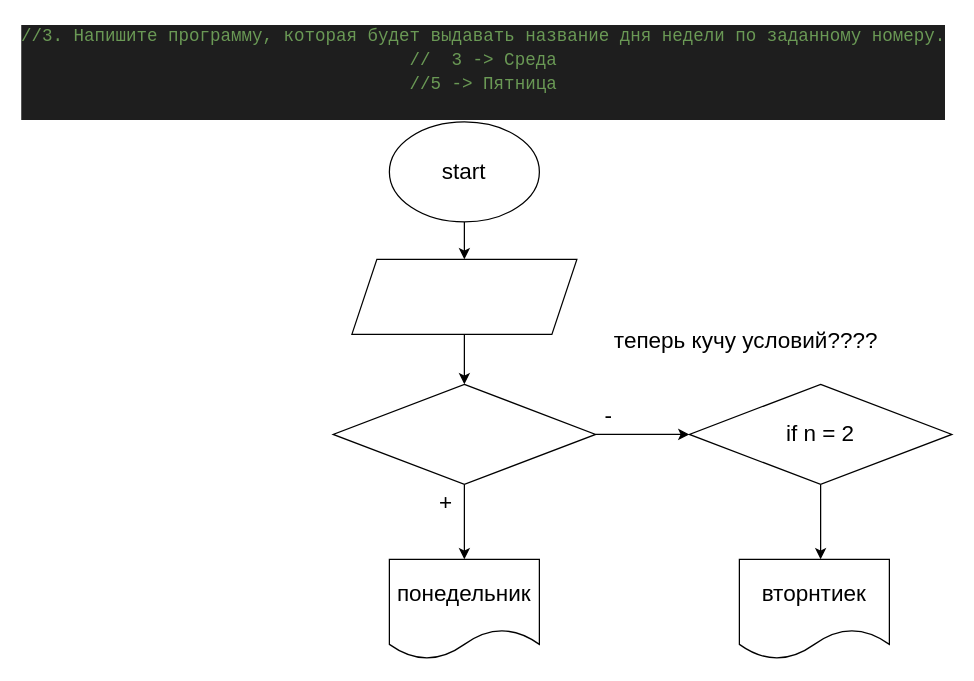
Some shapes in this 974 by 681 pixel diagram are drawn without their labels. Here are the shapes that lost their labels. From the top down, the centre of each, then its label:
(464,296): readline(n)
(464,433): if n = 1
